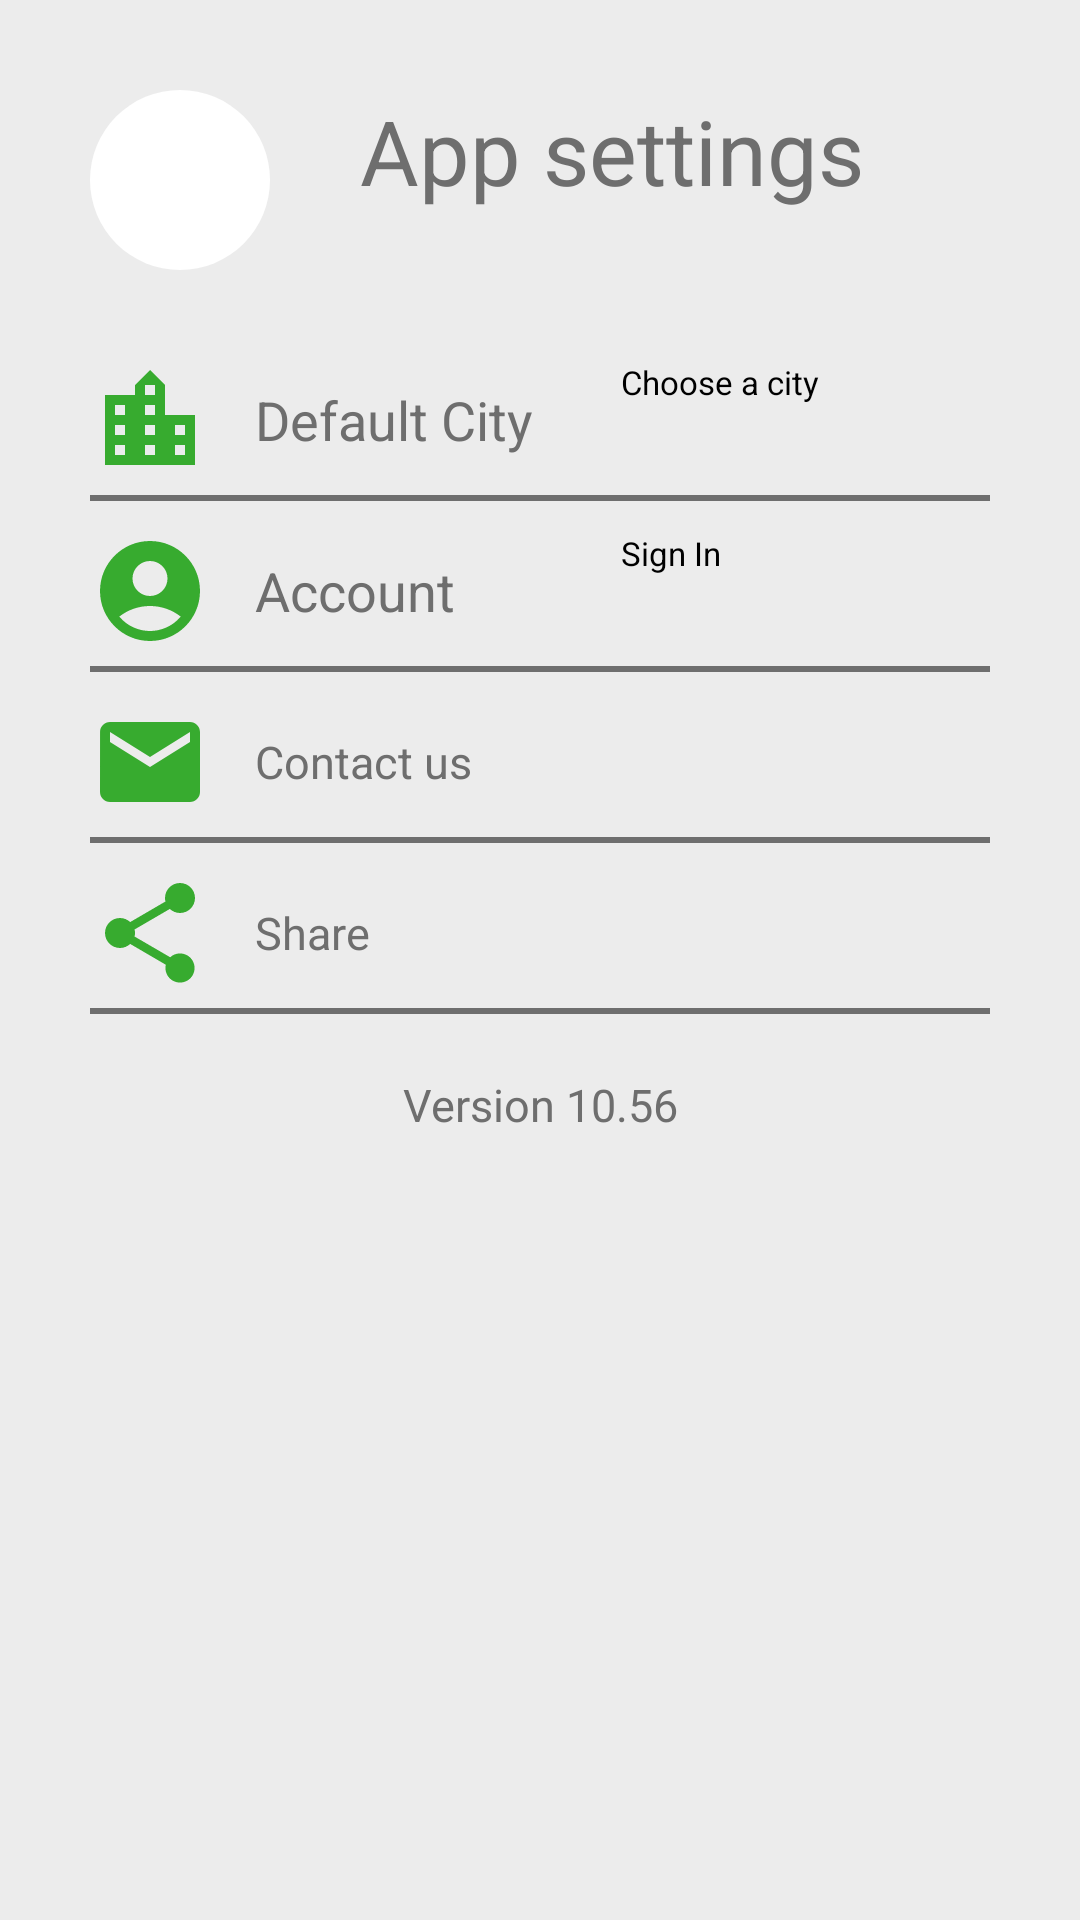

Named icons in this screenshot (1080px x 1920px) and their bounding boxes, (x1=x1, y1=y1, x2=x2, y2=y2):
Choose a city: (x1=105, y1=370, x2=195, y2=465)
email: (x1=100, y1=722, x2=200, y2=802)
